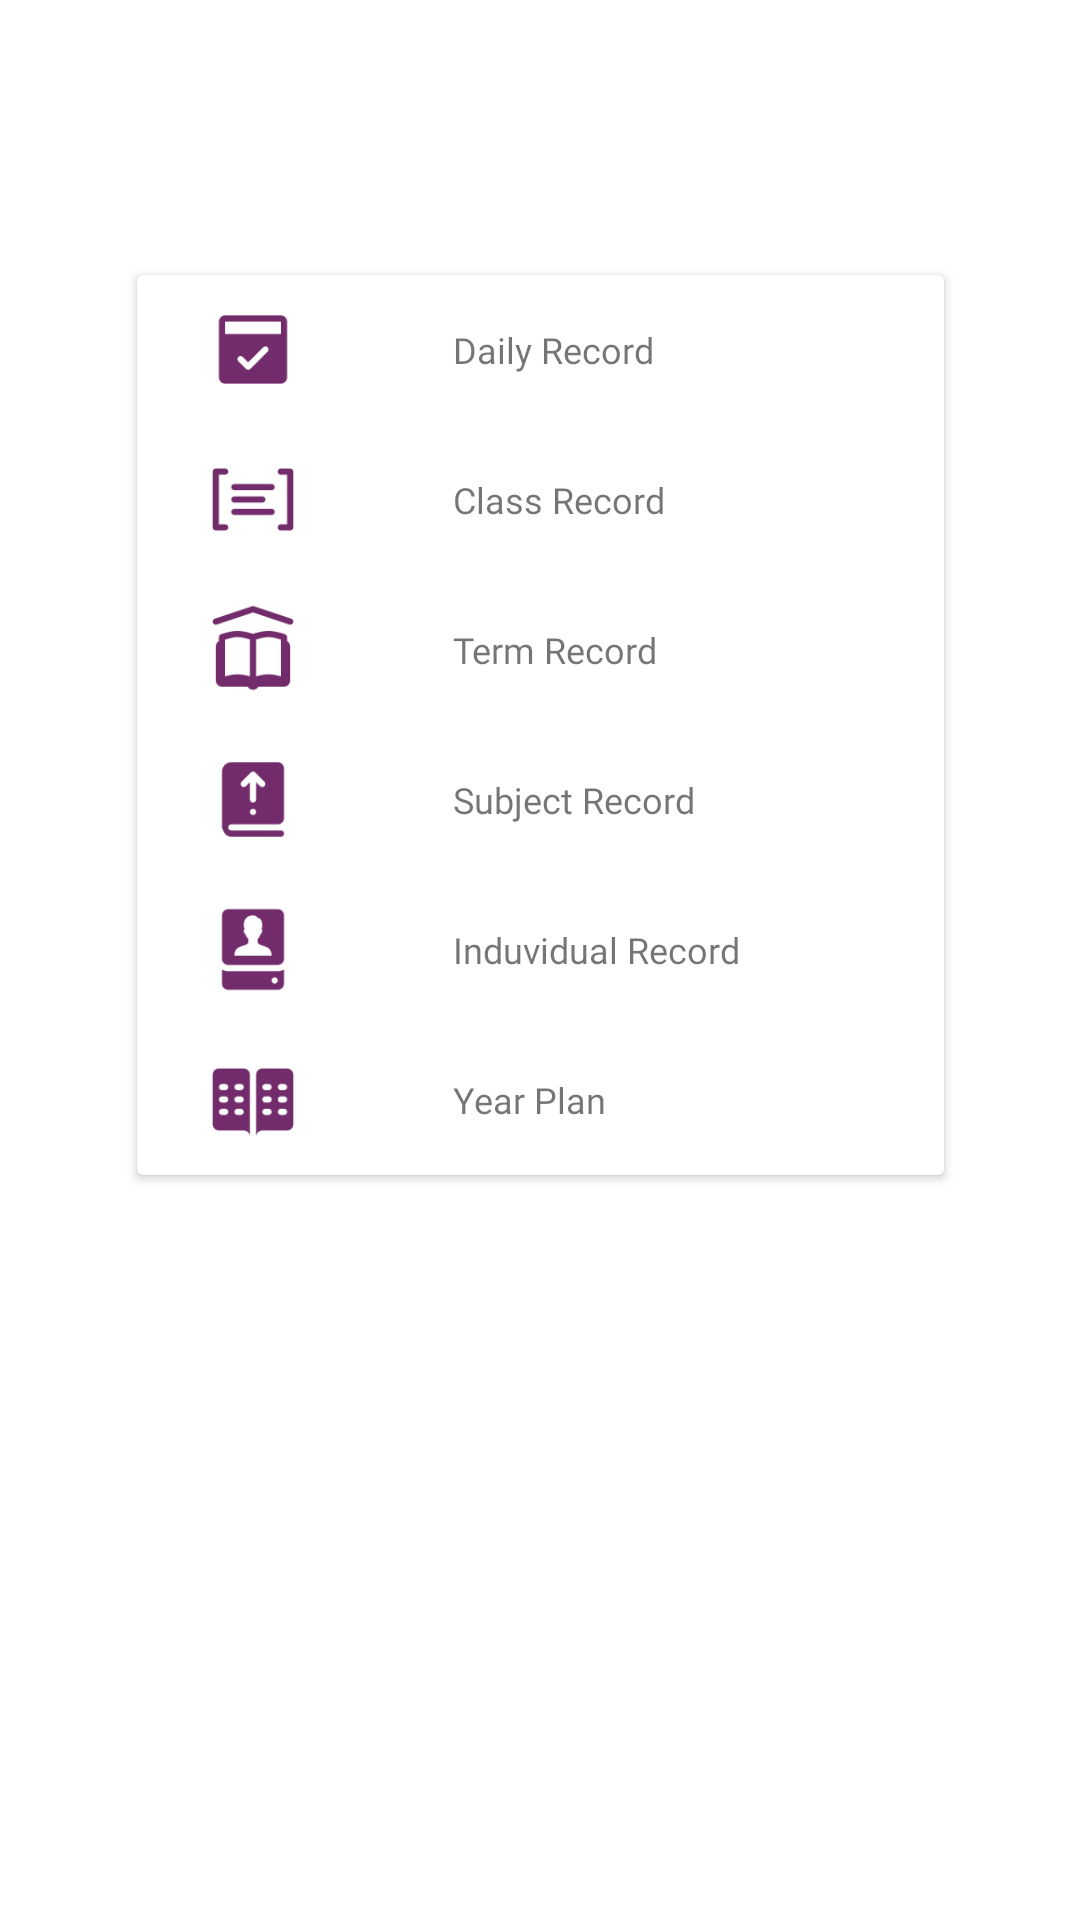

Where to tap for icons on this 1080 x 1920 app screen, as (x,y):
individual record: (253,949)
